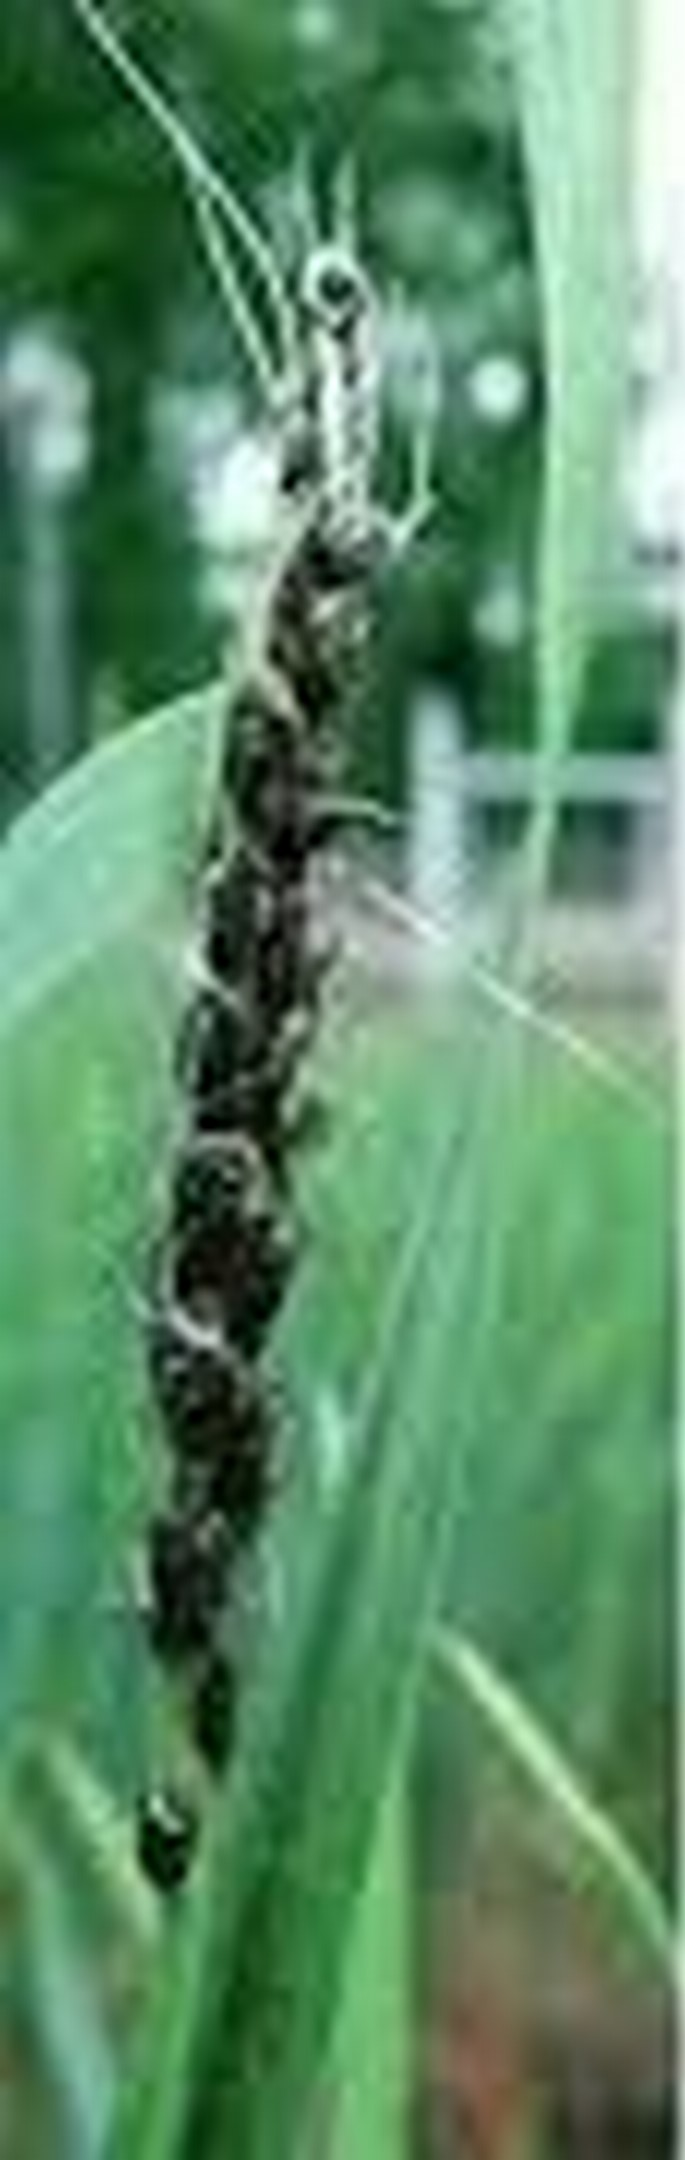Wheat Loose Smut: (130, 477, 492, 1642)
